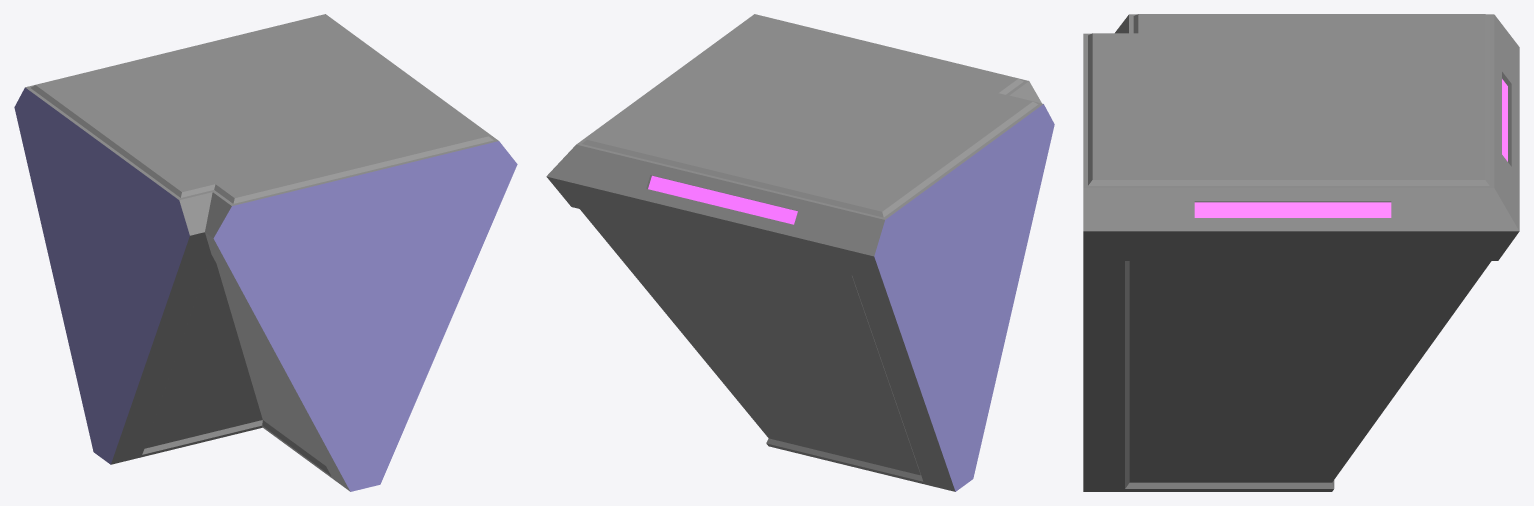
File: SZ_BridgeCorner.FBX
The picture shows the model from 3 angles, left to right: view 1: azimuth 30°, elevation 25°; view 2: azimuth 150°, elevation 25°; view 3: azimuth 270°, elevation 25°; orthographic projection. The views are drawn at different scales.
Parts seen in each view (by area): view 1: SZ_BridgeCorner; view 2: SZ_BridgeCorner; view 3: SZ_BridgeCorner.
Boxes of the visible parts, bbox=[...] form: SZ_BridgeCorner: bbox=[14, 14, 517, 491]; SZ_BridgeCorner: bbox=[546, 14, 1054, 491]; SZ_BridgeCorner: bbox=[1083, 14, 1519, 491].
Bounding box in the file's own units: 95.53 × 95.53 × 91.06.
